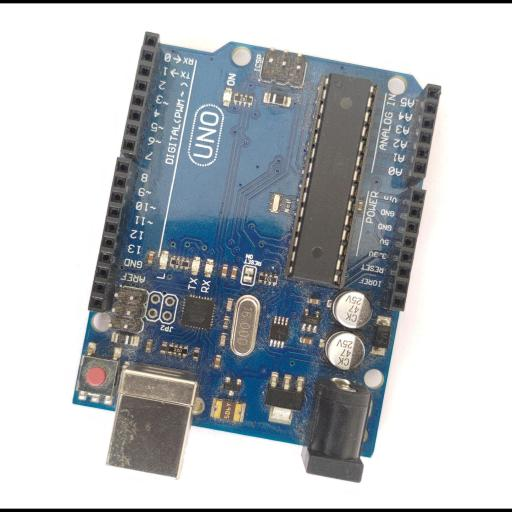Arduino Uno R3: (71, 30, 442, 483)
